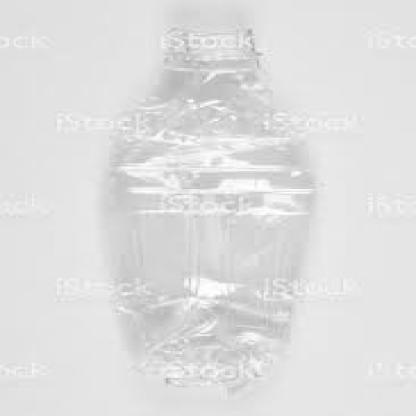trash: (111, 26, 313, 389)
